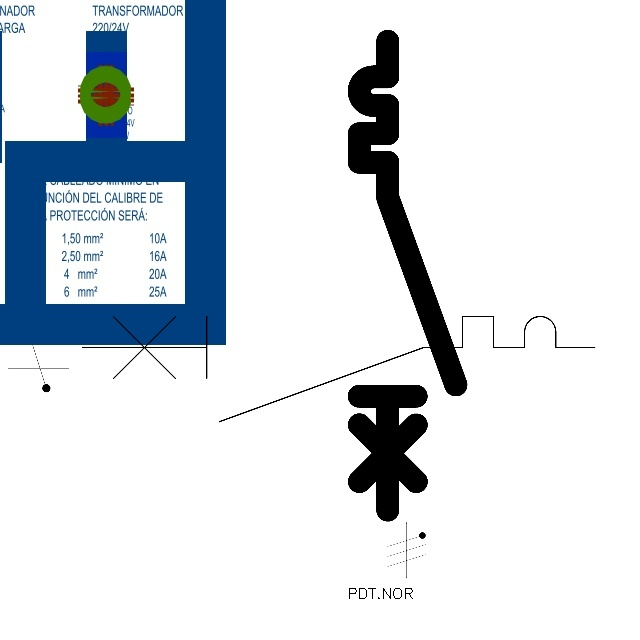interruptor_termomagnetico: (68, 303, 607, 435), (347, 29, 467, 522)
